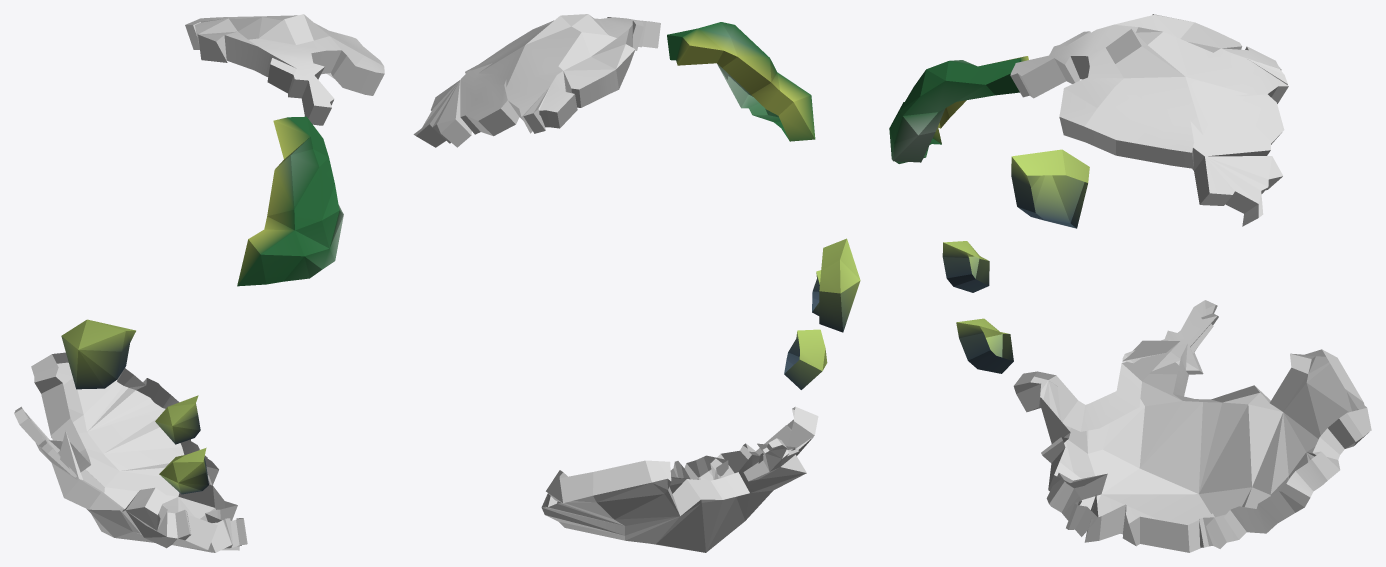
File: Ice_Planet_002.fbx
The picture shows the model from 3 angles, left to right: view 1: azimuth 30°, elevation 25°; view 2: azimuth 150°, elevation 25°; view 3: azimuth 270°, elevation 25°; orthographic projection. The views are drawn at different scales.
Parts seen in each view (by area): view 1: Ice.Planet.002; view 2: Ice.Planet.002; view 3: Ice.Planet.002.
Boxes of the visible parts, x1,y1,x2,y2 form: Ice.Planet.002: (14, 14, 384, 552); Ice.Planet.002: (413, 14, 860, 552); Ice.Planet.002: (889, 14, 1371, 552).
Size of the model in its own units: 63841 by 83412 by 66145.
